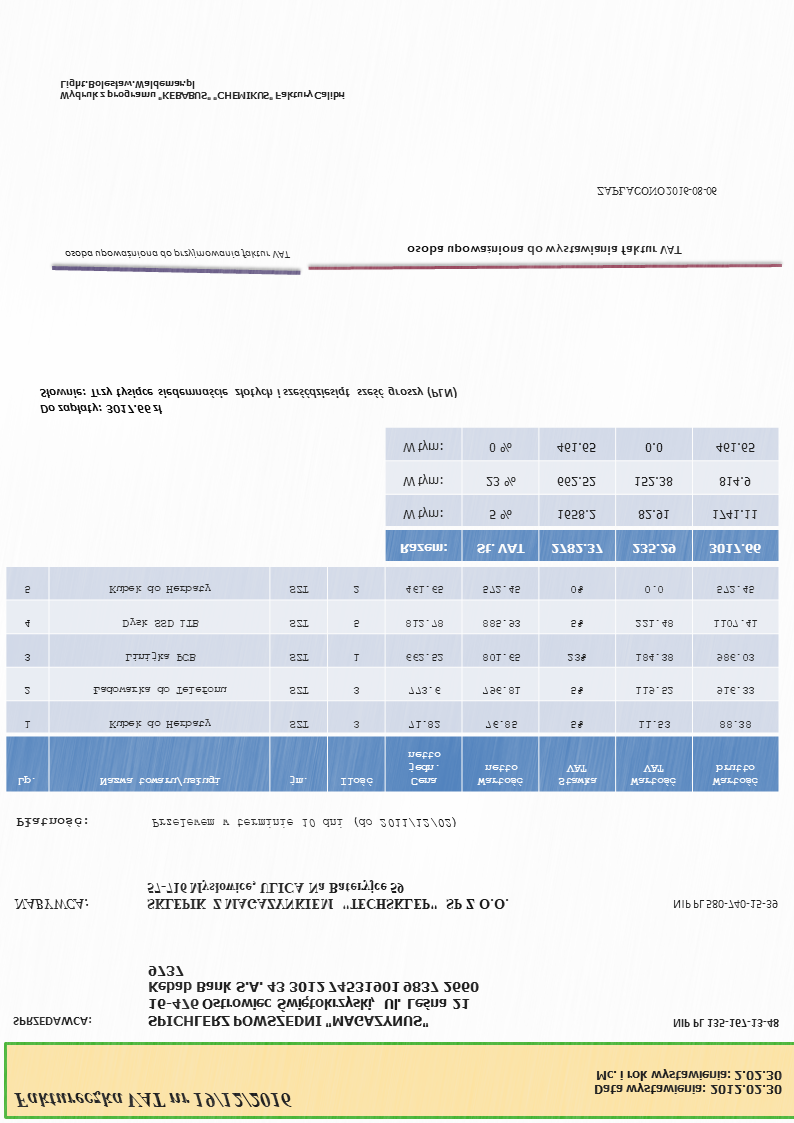Table: (4, 564, 781, 795), (384, 426, 780, 562)
TextBox: (145, 963, 482, 1031), (37, 383, 459, 418), (145, 878, 509, 913), (58, 78, 348, 104), (12, 1087, 294, 1112), (149, 813, 458, 833), (592, 1068, 784, 1099), (404, 241, 682, 259), (62, 245, 292, 262), (593, 183, 719, 200), (671, 895, 780, 912), (671, 1016, 783, 1032), (11, 895, 91, 915), (11, 1013, 92, 1030), (14, 815, 92, 831)
